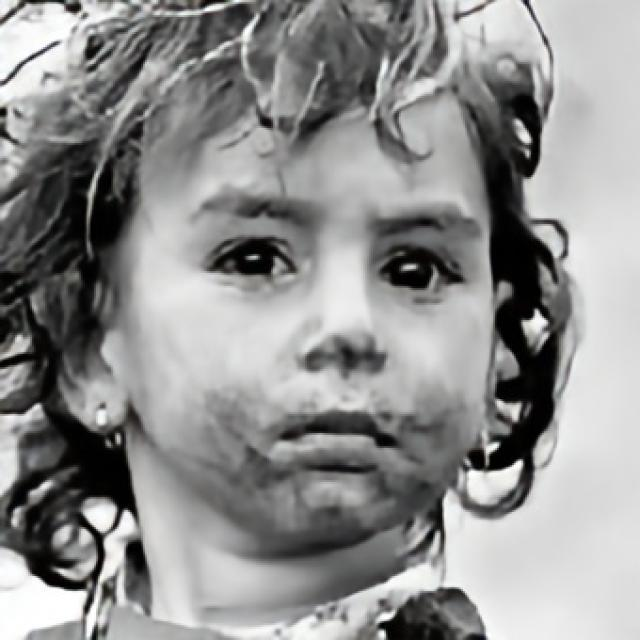sad: (124, 62, 493, 552)
